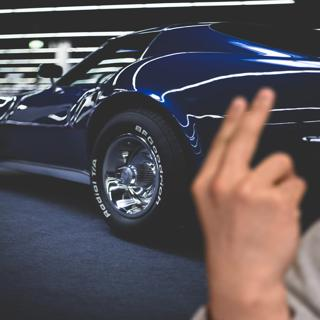DHAVE: (182, 79, 310, 290)
